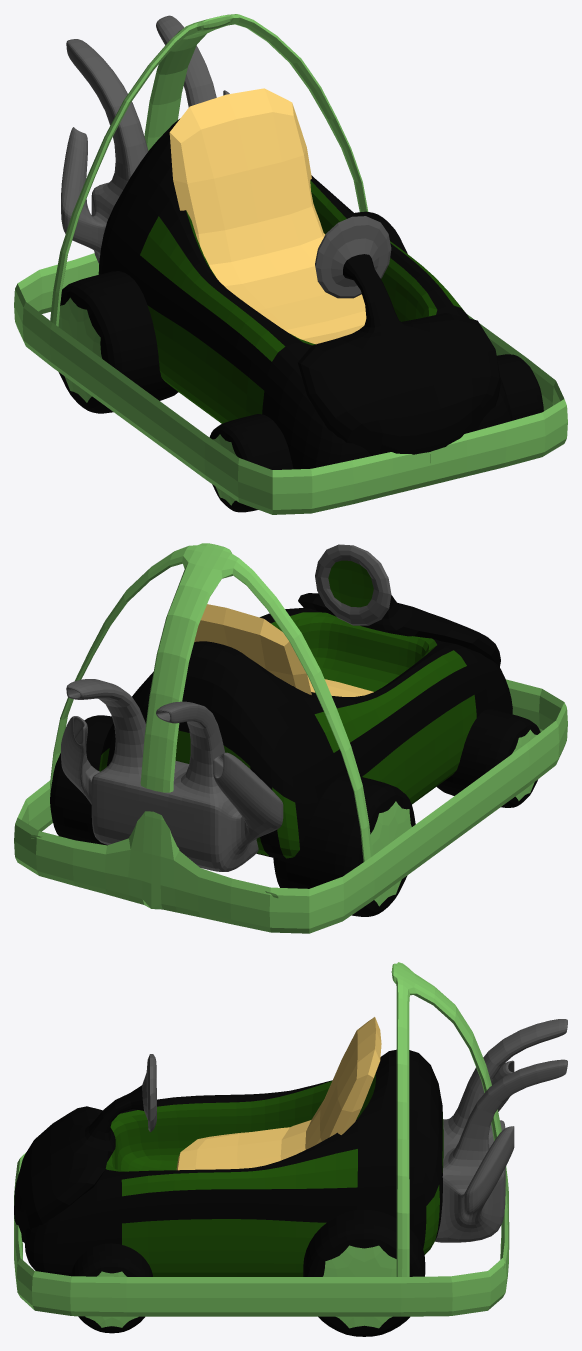
The model's file is Gokart.fbx.
3 renders of one model, top to bottom at view 1: azimuth 30°, elevation 25°; view 2: azimuth 150°, elevation 25°; view 3: azimuth 270°, elevation 25°, orthographic. The views are drawn at different scales.
Parts seen in each view (by area): view 1: GoKart; view 2: GoKart; view 3: GoKart.
Part boxes in pixels (box(x1,y1,x2,y2)): GoKart: box(14, 14, 567, 514); GoKart: box(14, 543, 567, 933); GoKart: box(14, 962, 567, 1336).
Bounding box in the file's own units: 176 × 179 × 293.
